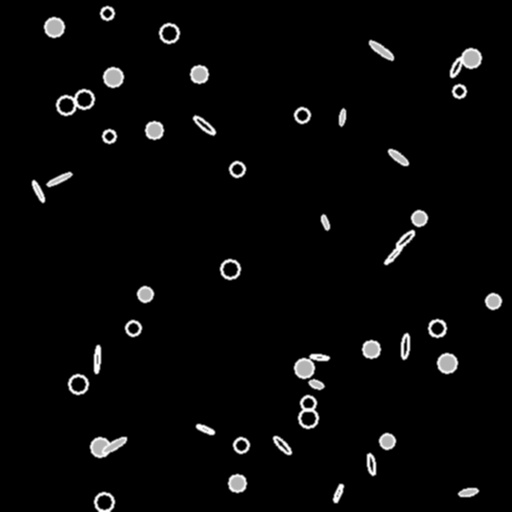pseudomonas: (191, 114, 217, 136), (368, 39, 394, 61), (101, 435, 127, 455), (271, 434, 293, 456), (387, 147, 409, 167), (394, 229, 416, 249), (46, 171, 72, 187), (384, 245, 402, 265), (448, 56, 464, 78), (31, 180, 45, 202), (332, 483, 344, 503), (366, 453, 376, 475), (196, 423, 214, 435), (458, 487, 478, 497), (401, 334, 409, 358), (308, 379, 324, 389), (320, 214, 330, 230), (94, 346, 100, 372), (310, 353, 328, 361), (338, 108, 346, 126)
synechocystis: (75, 90, 93, 108), (299, 409, 317, 427), (438, 354, 456, 372), (57, 96, 75, 114), (104, 68, 122, 86), (462, 49, 480, 67), (91, 438, 109, 456), (160, 24, 178, 42), (45, 18, 63, 36), (221, 260, 239, 278), (295, 359, 313, 377), (69, 375, 87, 393), (95, 493, 113, 511), (191, 66, 207, 82), (146, 122, 162, 138), (429, 320, 445, 336), (229, 475, 245, 491), (363, 341, 379, 357), (126, 321, 140, 335), (230, 162, 244, 176), (301, 396, 315, 410), (295, 108, 309, 122), (138, 287, 152, 301), (234, 438, 248, 452), (412, 211, 426, 225), (486, 294, 500, 308), (380, 434, 394, 448), (103, 130, 115, 142), (453, 85, 465, 97), (101, 7, 113, 19)
